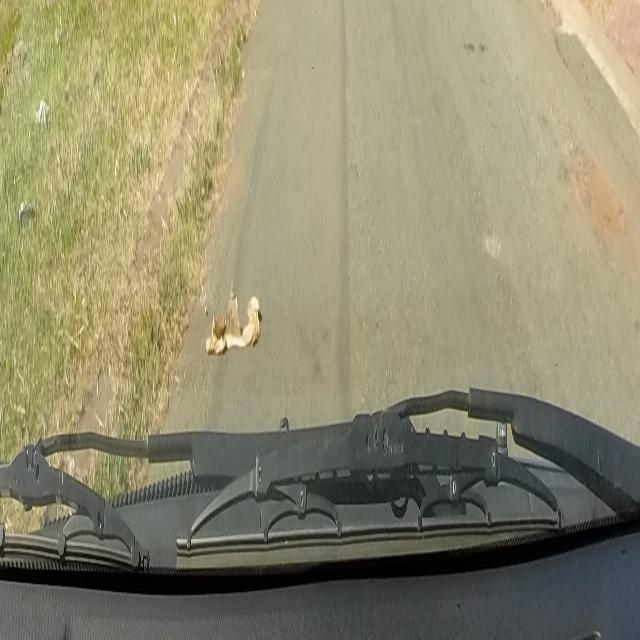pothole: (575, 146, 618, 234)
